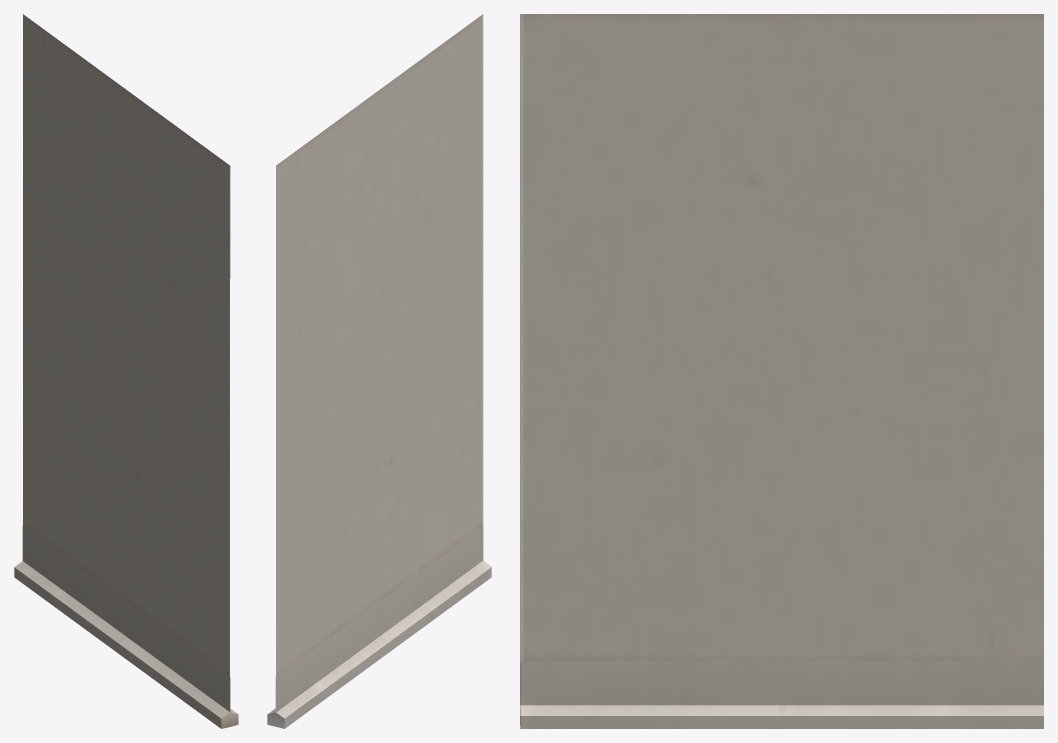
Rendered from KitCabinet_Lo_End.FBX.
The picture shows the model from 3 angles, left to right: view 1: azimuth 30°, elevation 25°; view 2: azimuth 150°, elevation 25°; view 3: azimuth 270°, elevation 25°; orthographic projection. The views are drawn at different scales.
Visible parts, largest first — view 1: KitCabinet_Lo_End; view 2: KitCabinet_Lo_End; view 3: KitCabinet_Lo_End.
Part boxes in pixels (box(x1,y1,x2,y2)): KitCabinet_Lo_End: box(14, 14, 238, 728); KitCabinet_Lo_End: box(267, 14, 491, 728); KitCabinet_Lo_End: box(520, 14, 1043, 728).
Bounding box in the file's own units: 2.89 × 89.44 × 59.85.
